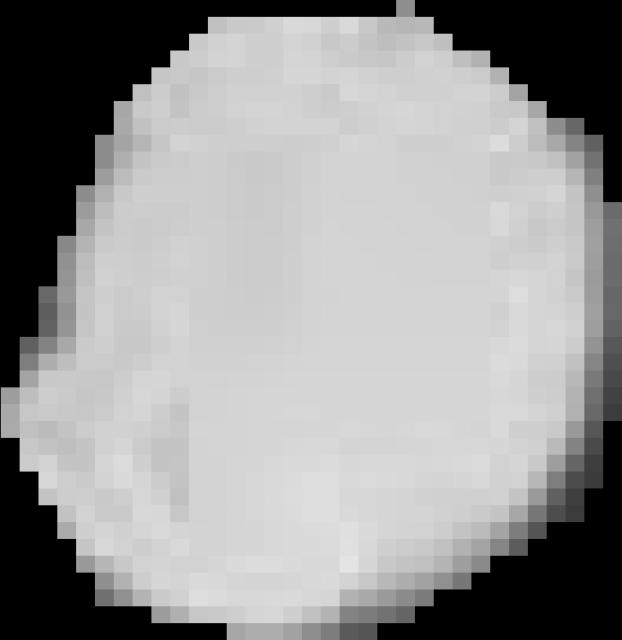tumor_good_chance: (1, 0, 622, 640)
